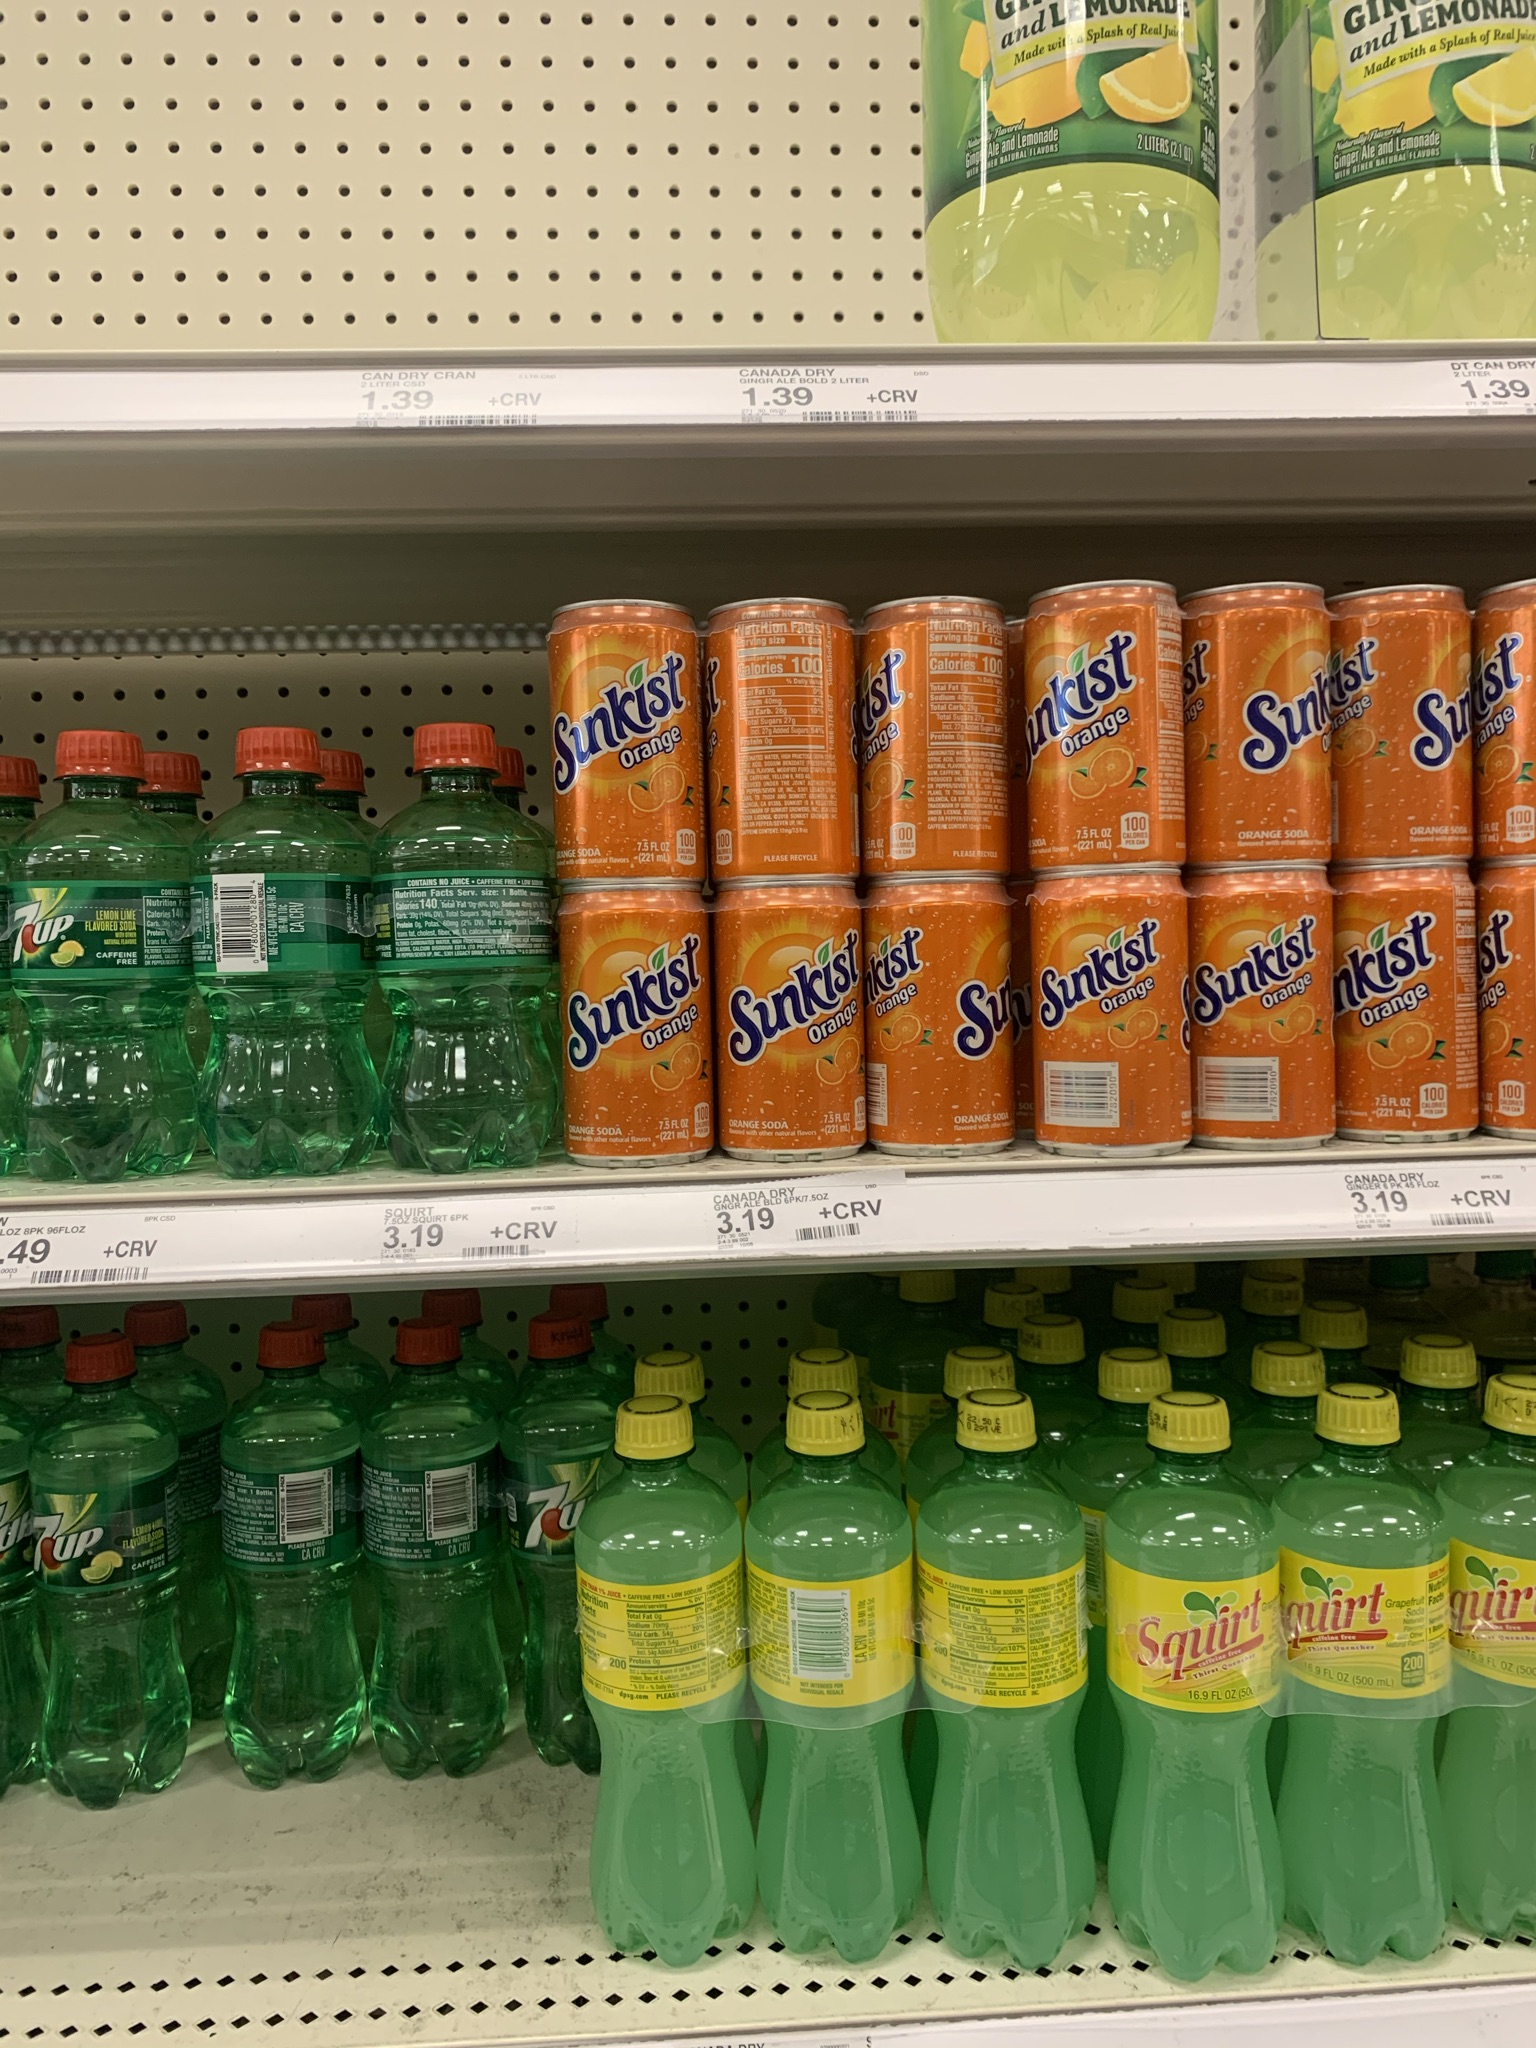Soda: (918, 1387, 1099, 1969), (1104, 1393, 1279, 1985), (579, 1400, 758, 1971), (744, 1388, 920, 1963), (1281, 1380, 1452, 1967), (15, 731, 195, 1185), (203, 727, 381, 1176), (386, 716, 560, 1171), (31, 1334, 194, 1809), (219, 1321, 365, 1793), (369, 1321, 515, 1784), (1025, 872, 1191, 1159), (1025, 577, 1189, 864), (863, 871, 1026, 1159), (558, 877, 715, 1168), (707, 597, 860, 884), (550, 597, 703, 876), (716, 877, 863, 1163), (1338, 863, 1483, 1150), (1189, 581, 1334, 863), (1196, 863, 1341, 1143), (866, 587, 1007, 876), (1333, 585, 1475, 863)
